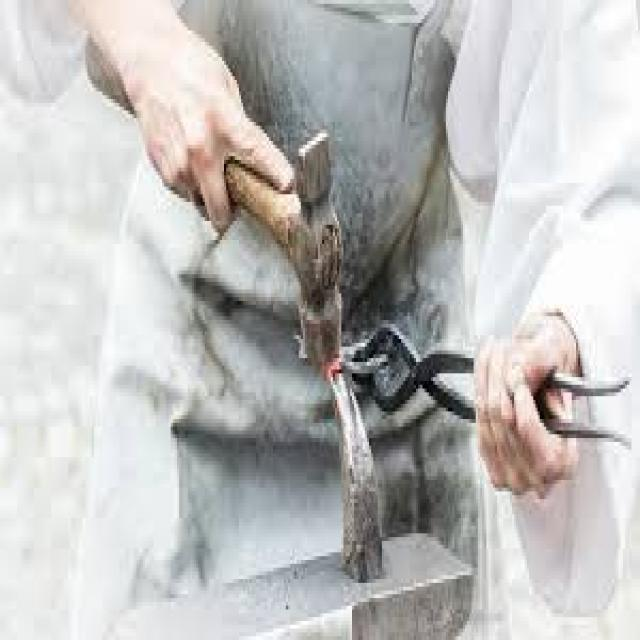hammer: (76, 32, 347, 390)
